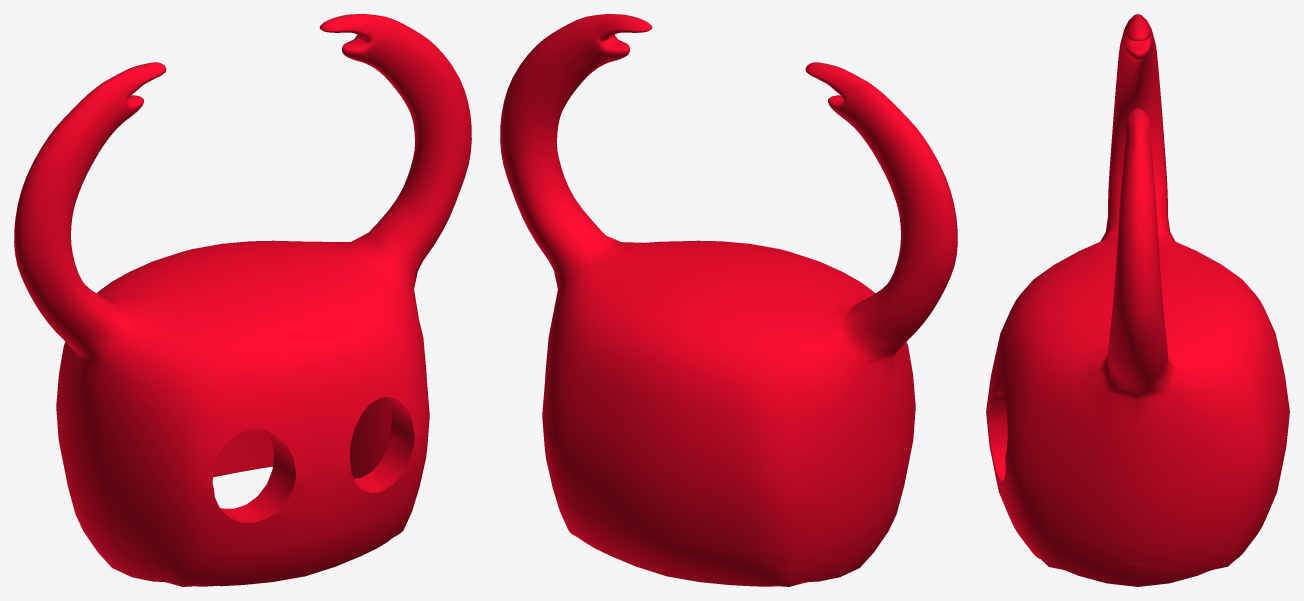
Rendered from makibaka.fbx.
3 renders of one model, left to right at view 1: azimuth 30°, elevation 25°; view 2: azimuth 150°, elevation 25°; view 3: azimuth 270°, elevation 25°, orthographic. The views are drawn at different scales.
Parts seen in each view (by area): view 1: Head; view 2: Head; view 3: Head.
Part boxes in pixels (bbox=[...]): Head: bbox=[14, 14, 471, 586]; Head: bbox=[500, 14, 957, 586]; Head: bbox=[986, 14, 1289, 586].
Size of the model in its own units: 6.17 by 6.45 by 3.87.
